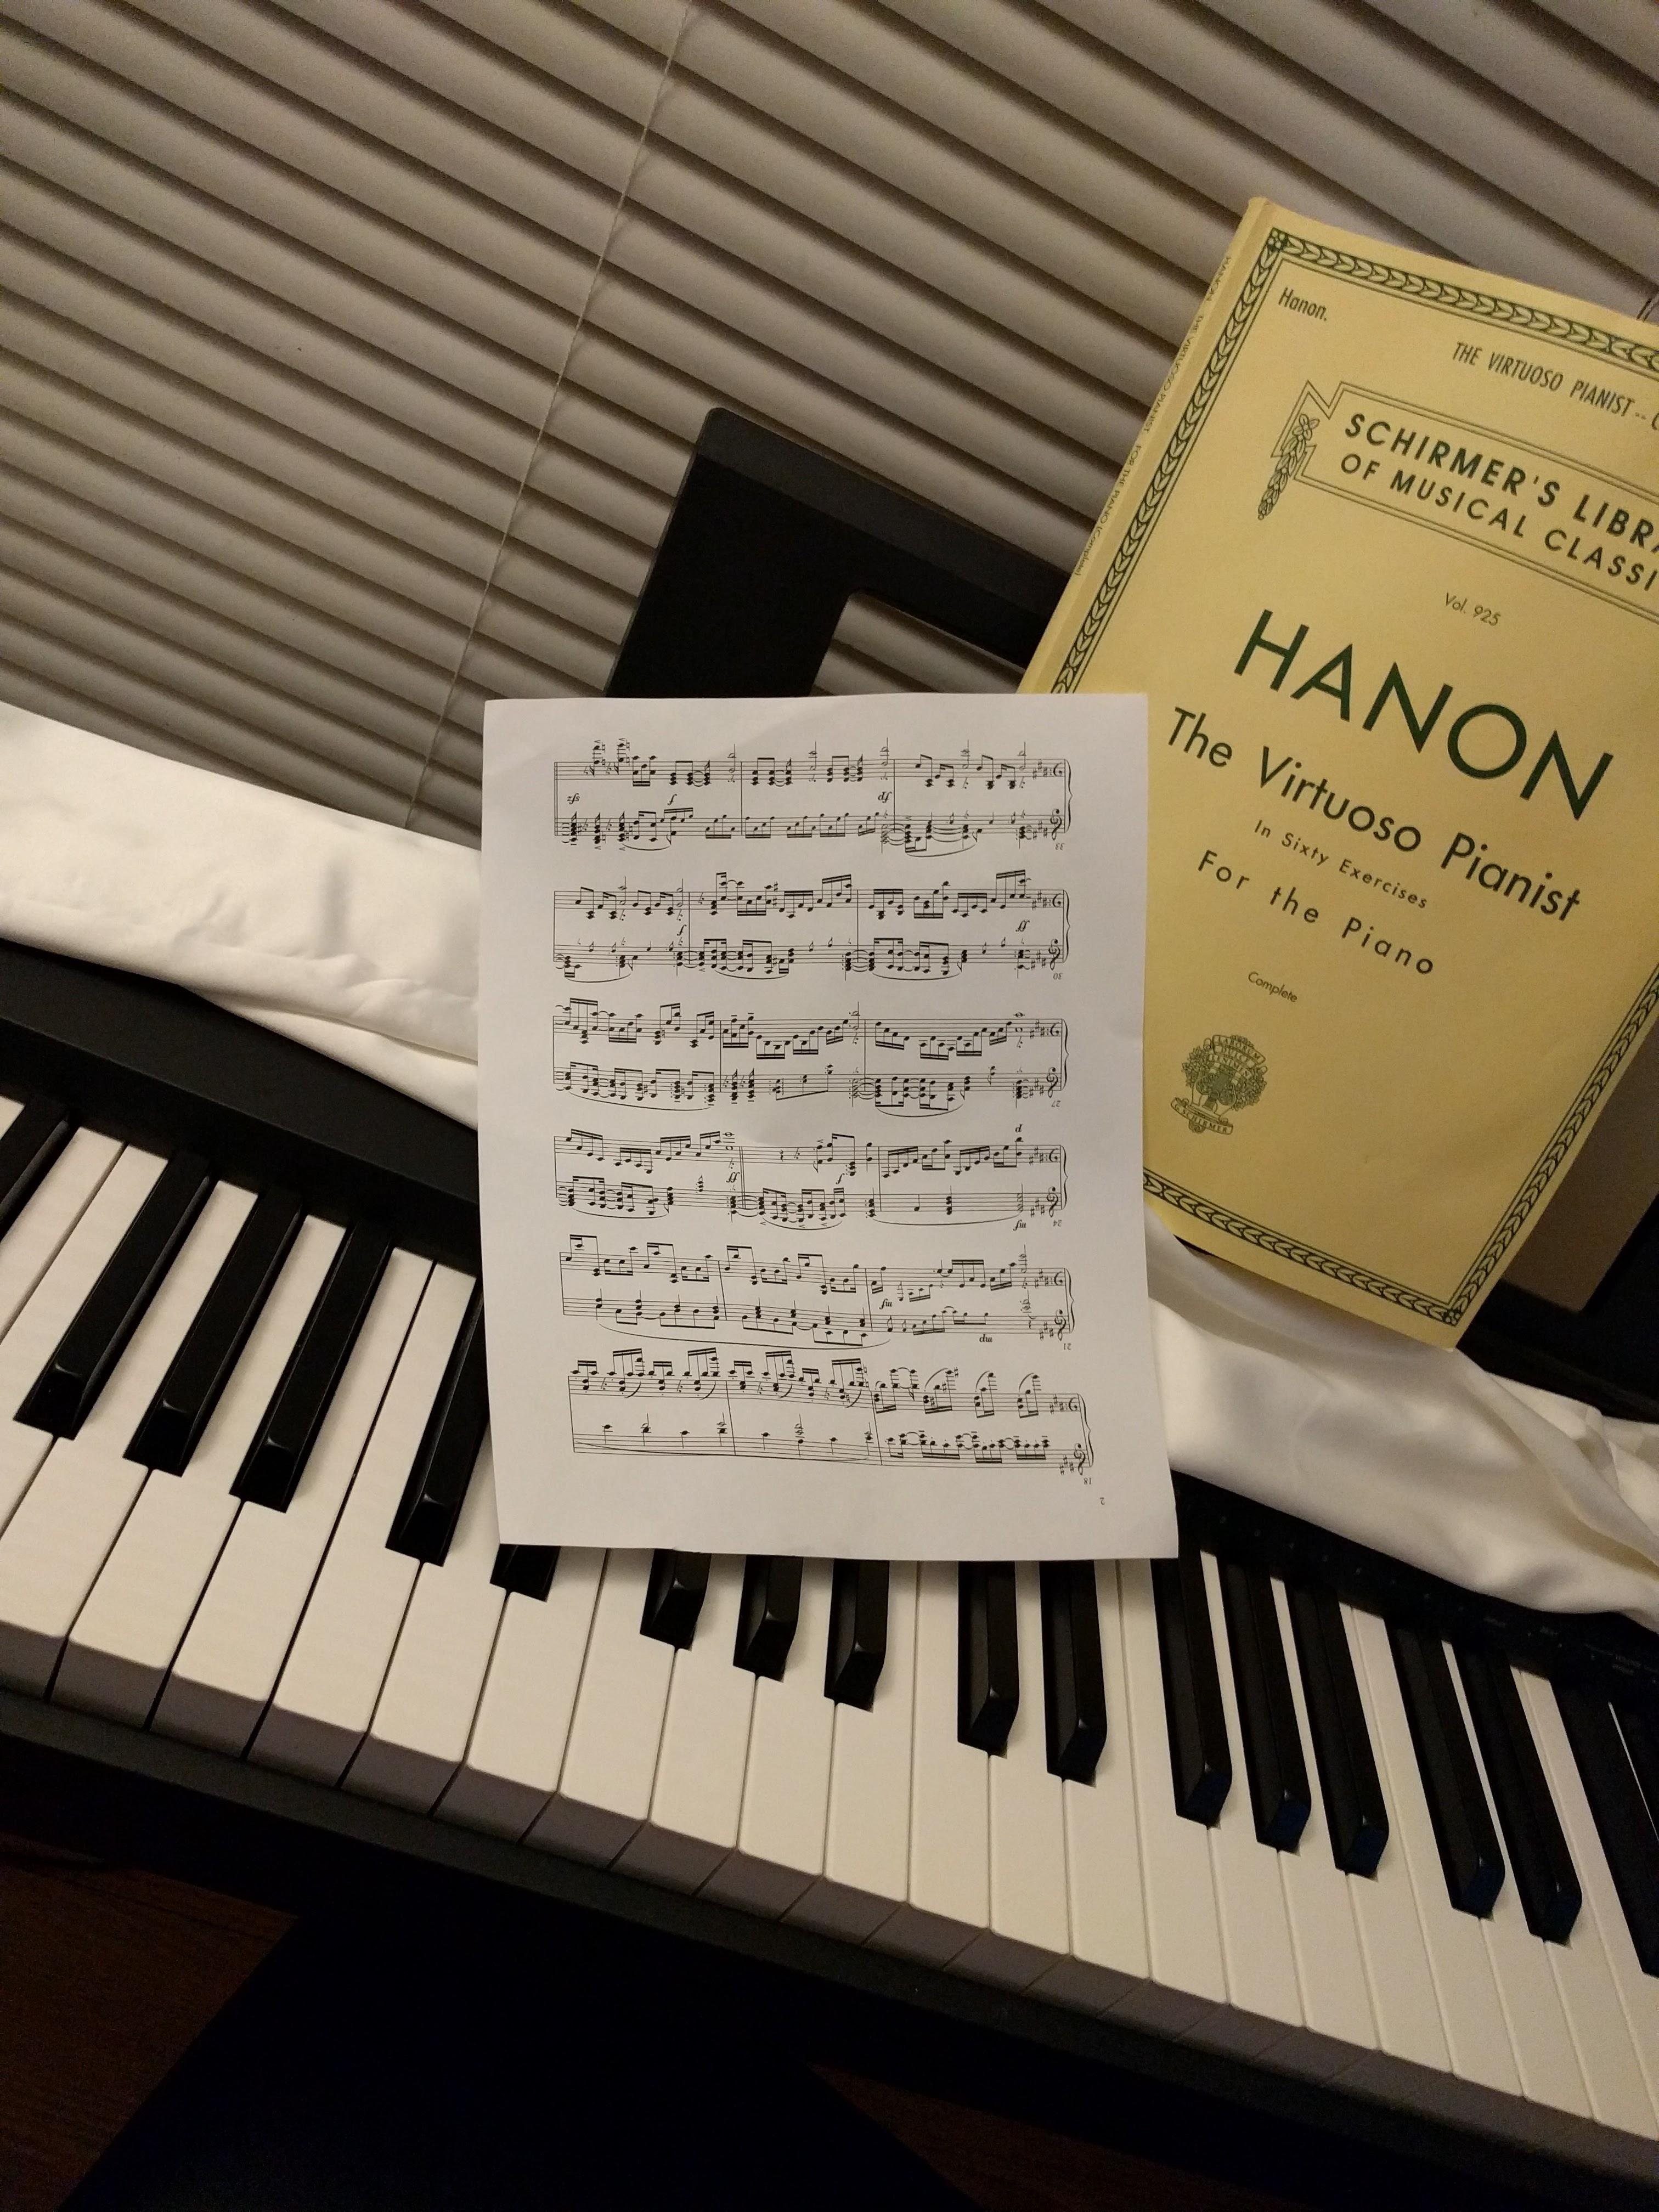paper: (362, 597, 1297, 1747)
